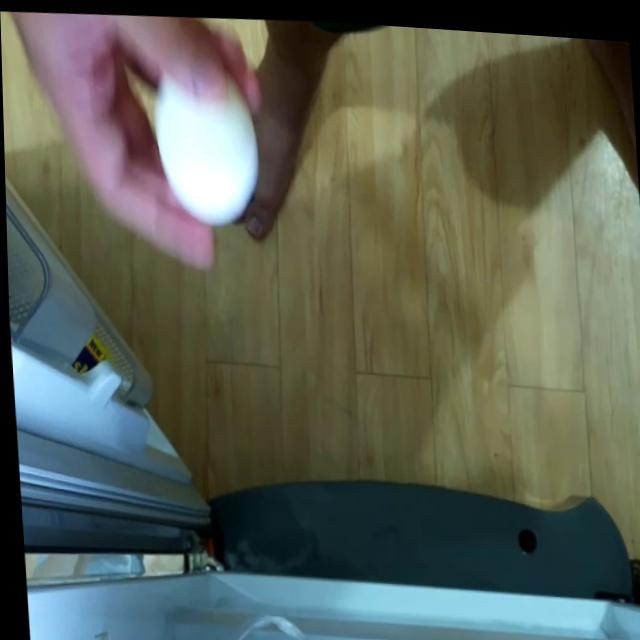egg: (146, 50, 262, 229)
